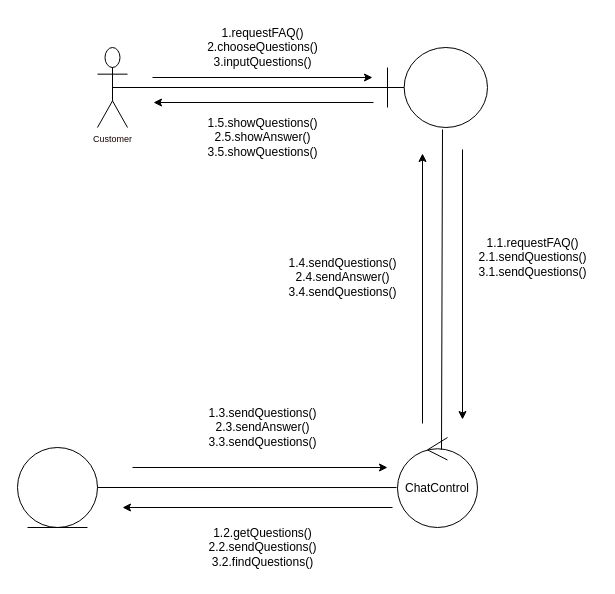
Some shapes in this 615 by 594 pixel diagram are drawn without their labels. Each missing label, with the centre of its shape:
Chat_Assist: the point at 437,87
ChatBot: the point at 57,487
